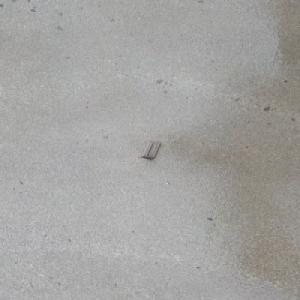MetalPart: (137, 140, 162, 160)
